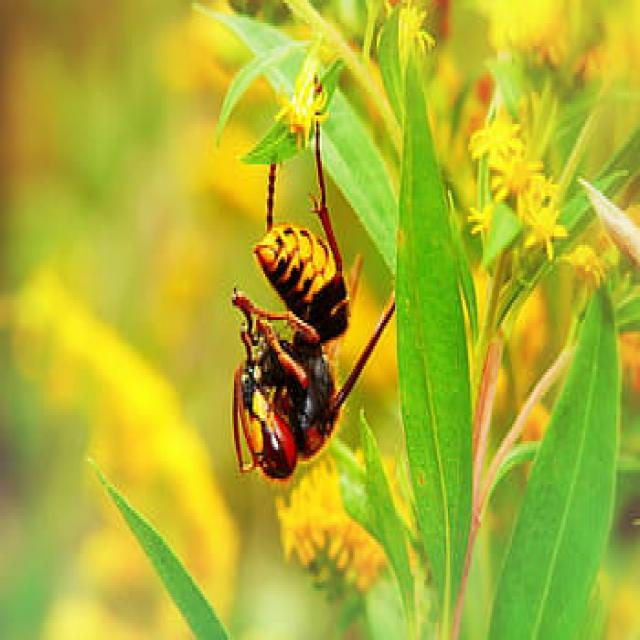Vespa Crabro: (205, 84, 412, 483)
